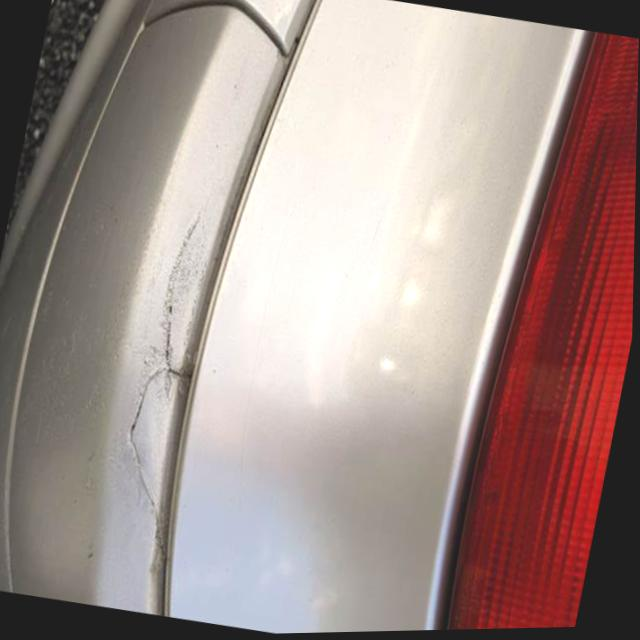Paint-Crack: (119, 197, 213, 564)
